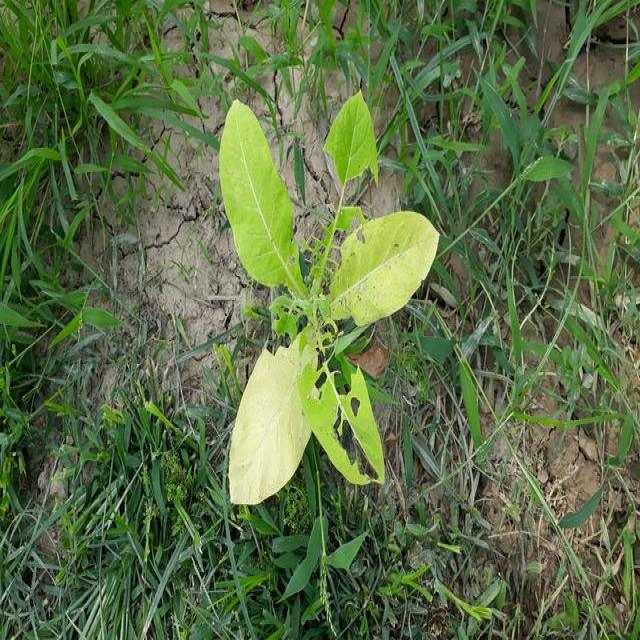crop: (206, 83, 454, 520)
